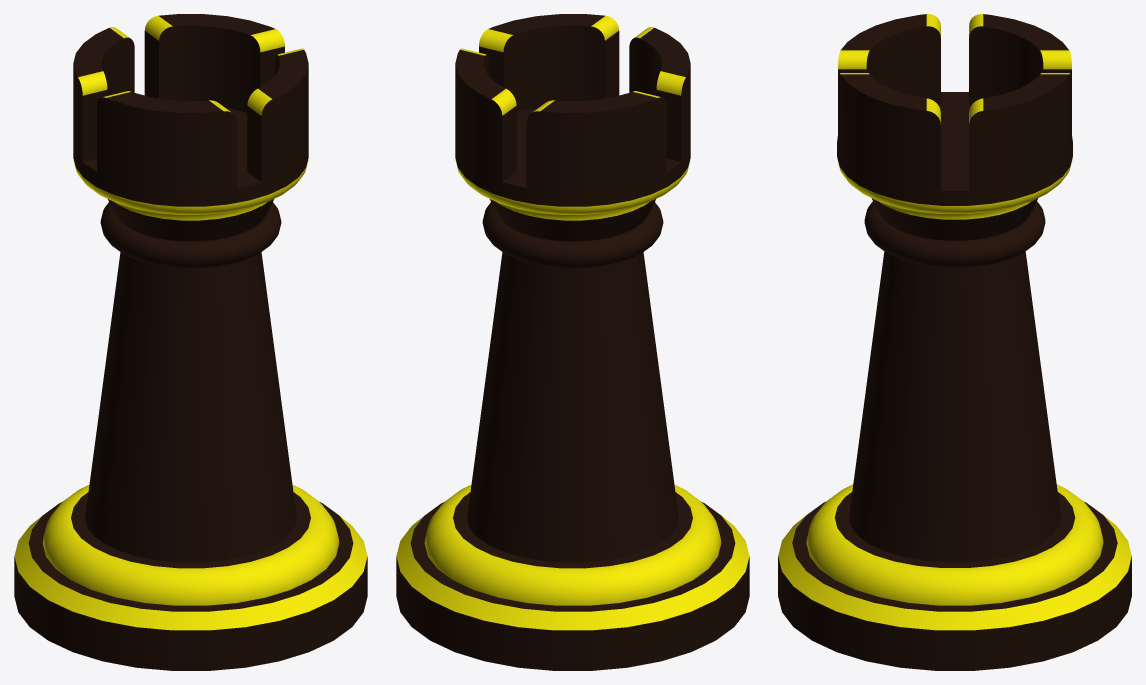
Rendered from Premium_B_Rook.gltf.
The picture shows the model from 3 angles, left to right: view 1: azimuth 30°, elevation 25°; view 2: azimuth 150°, elevation 25°; view 3: azimuth 270°, elevation 25°; orthographic projection.
Parts seen in each view (by area): view 1: Rook Black; view 2: Rook Black; view 3: Rook Black.
Part boxes in pixels (bbox=[...]): Rook Black: bbox=[14, 14, 367, 670]; Rook Black: bbox=[396, 14, 749, 670]; Rook Black: bbox=[778, 14, 1131, 670].
Bounding box in the file's own units: 0.0284 × 0.0476 × 0.0286.
